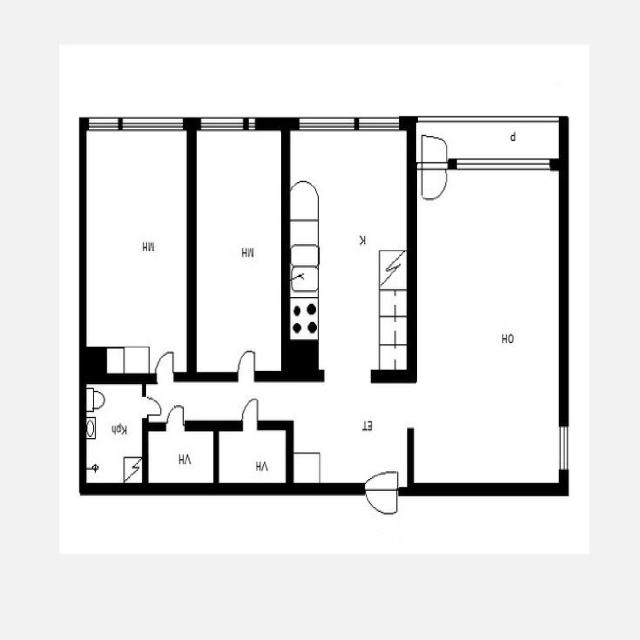door: (419, 128, 451, 206), (361, 468, 401, 521), (288, 174, 324, 218), (150, 347, 180, 386), (232, 343, 260, 382), (162, 400, 191, 432), (238, 396, 265, 430), (139, 393, 166, 424)
window: (452, 152, 554, 176), (116, 110, 187, 134), (195, 110, 260, 134), (294, 109, 361, 132), (352, 110, 403, 132), (84, 109, 125, 132), (557, 420, 571, 474)
zone: (414, 160, 565, 481), (286, 124, 412, 369), (83, 126, 192, 368), (194, 123, 287, 374), (293, 380, 408, 490), (83, 382, 145, 487), (217, 425, 290, 486), (146, 426, 218, 487)
